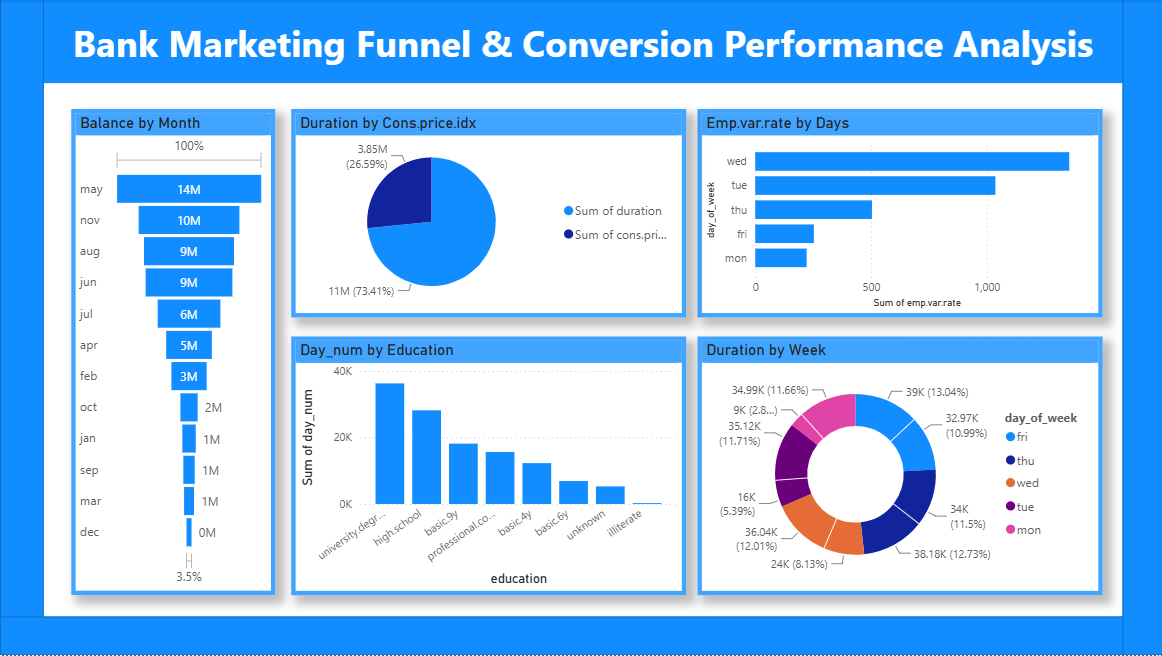

Layout of this report page (visuals, bound fields, positions):
{"tool":"powerbi","page":{"name":"Page 3","canvas":[1280,720],"ordinal":2},"visuals":[{"type":"clusteredBarChart","title":"Emp.var.rate by Days","fields":{"Category":["BankAdditional_Full.day_of_week"],"Y":["Sum(BankAdditional_Full.emp.var.rate)"]},"box":[765.7,120.8,444.6,229.2],"z":0},{"type":"shape","box":[0,0,1280.3,93.3],"z":1000},{"type":"shape","box":[0,0,48,720.4],"z":2000},{"type":"shape","box":[0,677.9,1280.3,42.5],"z":3000},{"type":"shape","box":[1232.3,0,48,720.4],"z":4000},{"type":"clusteredColumnChart","title":"Day_num by Education","fields":{"Y":["Sum(BankAdditional_Full.day_num)"],"Category":["BankAdditional_Full.education"]},"box":[319.7,370.5,433.6,284],"z":5000},{"type":"pieChart","title":"Duration by  Cons.price.idx","fields":{"Y":["Sum(BankAdditional_Full.duration)","Sum(BankAdditional_Full.cons.price.idx)"]},"box":[319.7,120.8,433.6,229.2],"z":6000},{"type":"donutChart","title":"Duration by Week ","fields":{"Y":["Sum(BankAdditional_Full.day_num)","Sum(BankAdditional_Full.duration_min)"],"Category":["BankAdditional_Full.day_of_week"]},"box":[765.7,370.5,444.6,284],"z":7000},{"type":"funnel","title":"Balance by Month","fields":{"Y":["Sum(BankMarketing_Full.balance)"],"Category":["BankMarketing_Full.month"]},"box":[78.2,120.8,223.7,533.8],"z":7001}]}

Visuals, with their boxes in screenshot pixels (x1, y1, x2, y2), scaled from the page's 1280x720 canvas onto the 1162x656 screenshot:
"Emp.var.rate by Days" clusteredBarChart: (x1=695, y1=110, x2=1099, y2=319)
shape: (x1=0, y1=0, x2=1161, y2=85)
shape: (x1=0, y1=0, x2=44, y2=655)
shape: (x1=0, y1=618, x2=1161, y2=655)
shape: (x1=1119, y1=0, x2=1161, y2=655)
"Day_num by Education" clusteredColumnChart: (x1=290, y1=338, x2=684, y2=596)
"Duration by  Cons.price.idx" pieChart: (x1=290, y1=110, x2=684, y2=319)
"Duration by Week " donutChart: (x1=695, y1=338, x2=1099, y2=596)
"Balance by Month" funnel: (x1=71, y1=110, x2=274, y2=596)
